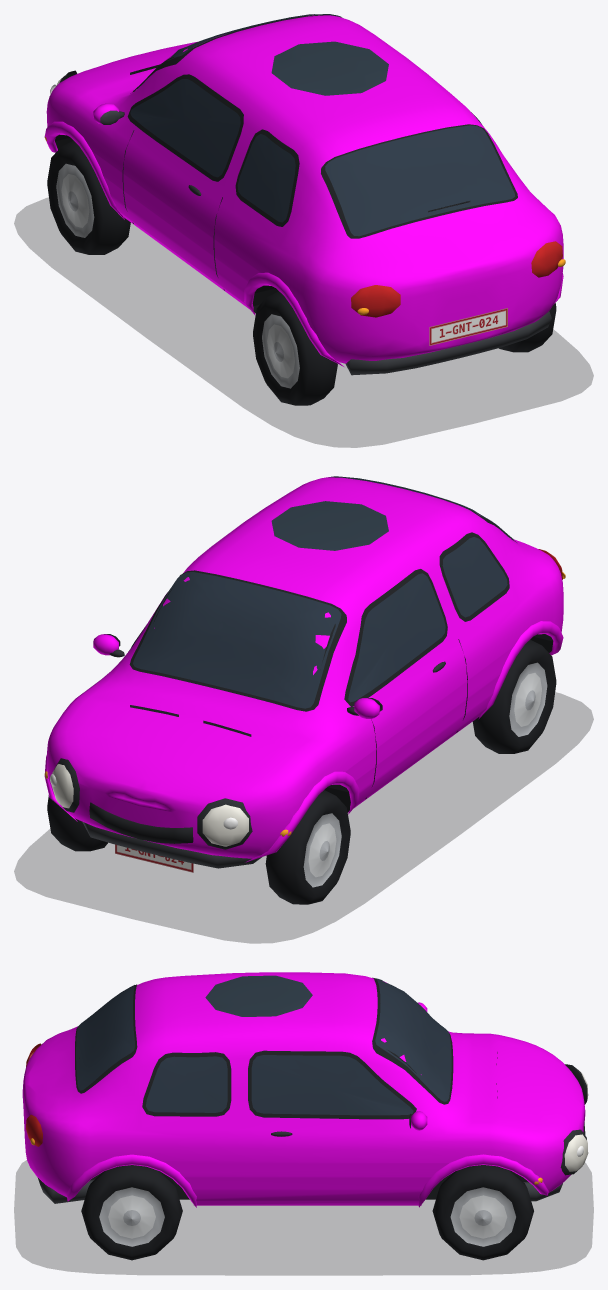
The model's file is car-mini.obj.
3 renders of one model, top to bottom at view 1: azimuth 30°, elevation 25°; view 2: azimuth 150°, elevation 25°; view 3: azimuth 270°, elevation 25°, orthographic. The views are drawn at different scales.
Visible parts, largest first — view 1: shadowpad.nocast, body.rl, body.fl, body.rr, glass.backlight.nocast, glass.win_front.-1.nocast, wheel.RL, wheel.FL, opt.sunroof.nocast, glass.win_rear.-1.nocast, trim.bumper_rear, body.fr (+9 smaller); view 2: body.fl, shadowpad.nocast, glass.windshield.nocast, body.fr, body.rl, glass.win_front.-1.nocast, wheel.FL, wheel.RL, opt.sunroof.nocast, body.rr, glass.win_rear.-1.nocast, trim.bumper_front (+11 smaller); view 3: body.fr, shadowpad.nocast, body.rr, glass.win_front.1.nocast, wheel.FR, wheel.RR, body.fl, glass.windshield.nocast, glass.win_rear.1.nocast, body.rl, glass.backlight.nocast, opt.sunroof.nocast (+8 smaller).
Boxes of the visible parts, <box> form: shadowpad.nocast: <box>14,197,593,447</box>; body.rl: <box>92,41,468,363</box>; body.fl: <box>46,26,300,313</box>; body.rr: <box>291,35,563,343</box>; glass.backlight.nocast: <box>325,125,515,236</box>; glass.win_front.-1.nocast: <box>130,79,240,177</box>; wheel.RL: <box>253,291,337,405</box>; wheel.FL: <box>47,140,130,254</box>; opt.sunroof.nocast: <box>271,41,388,95</box>; glass.win_rear.-1.nocast: <box>237,134,295,222</box>; trim.bumper_rear: <box>345,311,551,375</box>; body.fr: <box>153,15,374,54</box>; body.fl: <box>139,551,553,858</box>; shadowpad.nocast: <box>14,692,593,943</box>; glass.windshield.nocast: <box>133,572,341,708</box>; body.fr: <box>46,535,290,837</box>; body.rl: <box>291,488,563,772</box>; glass.win_front.-1.nocast: <box>348,573,445,702</box>; wheel.FL: <box>265,790,350,904</box>; wheel.RL: <box>472,639,556,753</box>; opt.sunroof.nocast: <box>271,501,388,550</box>; body.rr: <box>214,477,402,554</box>; glass.win_rear.-1.nocast: <box>442,537,507,617</box>; trim.bumper_front: <box>82,821,261,868</box>; body.fr: <box>93,997,585,1205</box>; shadowpad.nocast: <box>14,1160,593,1275</box>; body.rr: <box>22,996,449,1199</box>; glass.win_front.1.nocast: <box>251,1055,413,1115</box>; wheel.FR: <box>432,1165,533,1260</box>; wheel.RR: <box>81,1165,182,1260</box>; body.fl: <box>305,972,585,1110</box>; glass.windshield.nocast: <box>375,978,451,1101</box>; glass.win_rear.1.nocast: <box>146,1056,227,1112</box>; body.rl: <box>23,972,325,1086</box>; glass.backlight.nocast: <box>76,985,134,1090</box>; opt.sunroof.nocast: <box>205,975,312,1016</box>.
Bounding box in the file's own units: 2.08 × 1.6 × 3.88.
16 materials, 1 textured.
